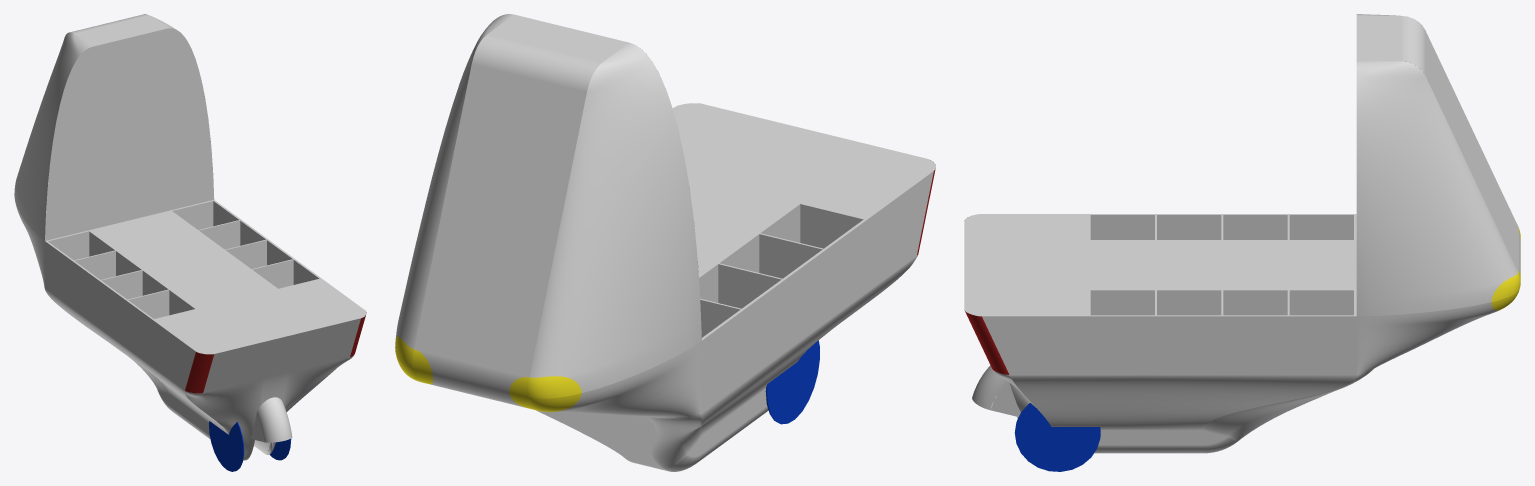
The model's file is main body.obj.
3 views of the same model, side by side, from view 1: azimuth 30°, elevation 25°; view 2: azimuth 150°, elevation 25°; view 3: azimuth 270°, elevation 25° (orthographic). The views are drawn at different scales.
Visible parts, largest first — view 1: mesh1, mesh5, mesh3; view 2: mesh1, mesh2, mesh5; view 3: mesh1, mesh5, mesh3, mesh2.
Boxes of the visible parts, bbox=[...] form: mesh1: bbox=[14, 14, 366, 460]; mesh5: bbox=[209, 421, 291, 471]; mesh3: bbox=[185, 312, 366, 393]; mesh1: bbox=[395, 14, 935, 471]; mesh2: bbox=[395, 336, 581, 411]; mesh5: bbox=[765, 340, 819, 424]; mesh1: bbox=[964, 14, 1520, 453]; mesh5: bbox=[1014, 403, 1100, 471]; mesh3: bbox=[964, 217, 1009, 374]; mesh2: bbox=[1491, 228, 1520, 310].
Bounding box in the file's own units: 0.451 × 0.8598 × 1.03.
